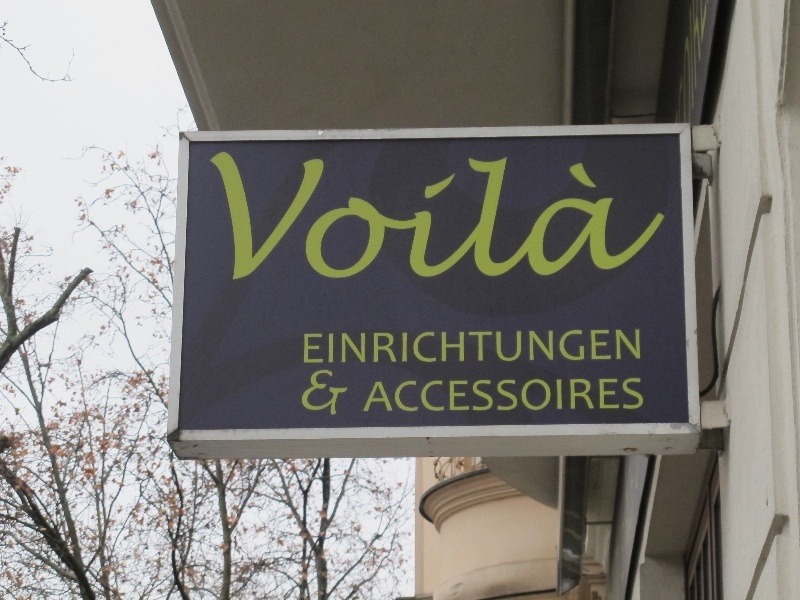text: (209, 145, 224, 286), (225, 145, 240, 286), (241, 145, 256, 286), (257, 145, 272, 286), (273, 145, 288, 286), (289, 145, 304, 286), (305, 145, 320, 286), (321, 145, 336, 286), (337, 145, 352, 286), (353, 145, 368, 286), (369, 145, 384, 286), (385, 145, 400, 286), (401, 145, 416, 286), (417, 145, 432, 286), (433, 145, 448, 286), (449, 145, 464, 286), (465, 145, 480, 286), (481, 145, 496, 286), (497, 145, 512, 286), (513, 145, 528, 286), (529, 145, 544, 286), (545, 145, 560, 286), (561, 145, 576, 286), (577, 145, 592, 286), (593, 145, 608, 286), (609, 145, 624, 286), (625, 145, 640, 286), (641, 145, 656, 286), (690, 1, 704, 123), (657, 145, 667, 286), (321, 368, 336, 418), (337, 368, 352, 418), (305, 327, 320, 367), (321, 327, 336, 367), (337, 327, 352, 367), (353, 327, 368, 367), (369, 327, 384, 367), (385, 327, 400, 367), (401, 327, 416, 367), (417, 327, 432, 367), (433, 327, 448, 367), (449, 327, 464, 367), (465, 327, 480, 367), (481, 327, 496, 367), (497, 327, 512, 367), (513, 327, 528, 367), (529, 327, 544, 367), (545, 327, 560, 367), (561, 327, 576, 367), (577, 327, 592, 367), (593, 327, 608, 367), (609, 327, 624, 367), (625, 327, 640, 367), (385, 375, 400, 415), (401, 375, 416, 415), (417, 375, 432, 415), (433, 375, 448, 415), (449, 375, 464, 415), (465, 375, 480, 415), (481, 375, 496, 415), (497, 375, 512, 415), (513, 375, 528, 415), (529, 375, 544, 415), (545, 375, 560, 415), (561, 375, 576, 415), (577, 375, 592, 415), (593, 375, 608, 415), (609, 375, 624, 415), (625, 375, 640, 415), (705, 1, 709, 123), (372, 375, 384, 415), (311, 368, 320, 418), (353, 368, 360, 418), (641, 375, 646, 415), (207, 145, 208, 286), (302, 327, 304, 367), (641, 327, 643, 367)
